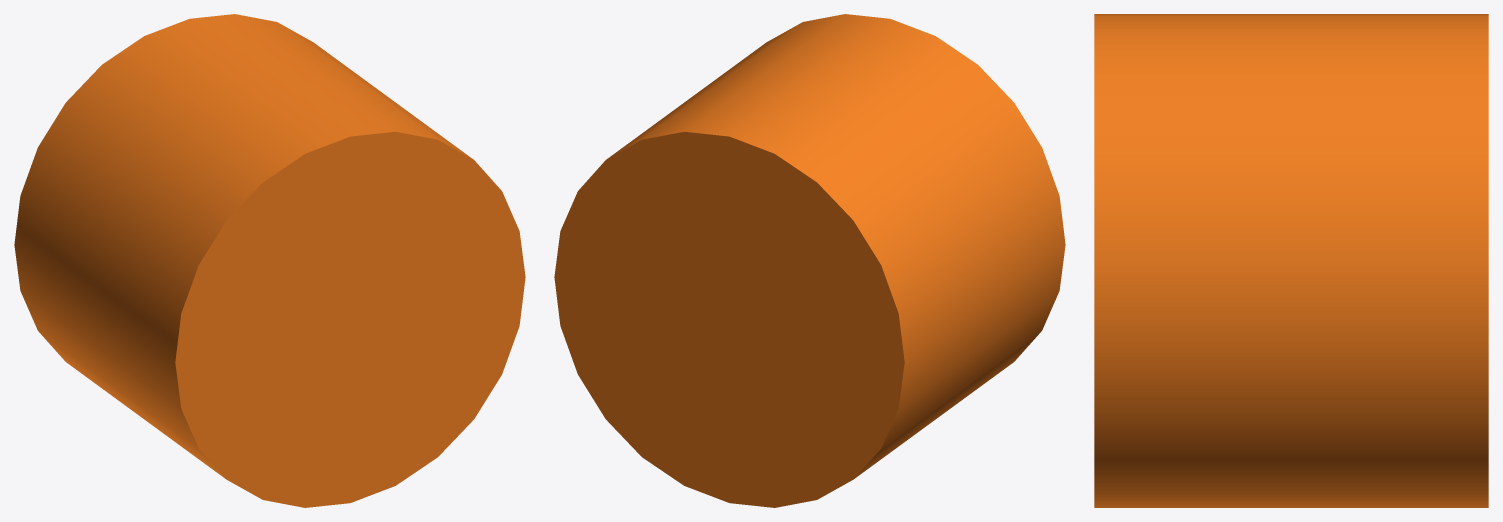
3 renders of one model, left to right at view 1: azimuth 30°, elevation 25°; view 2: azimuth 150°, elevation 25°; view 3: azimuth 270°, elevation 25°, orthographic. The views are drawn at different scales.
Visible parts, largest first — view 1: gripper_frame; view 2: gripper_frame; view 3: gripper_frame.
Part boxes in pixels (x1,y1,x2,y2): gripper_frame: (14, 14, 525, 507); gripper_frame: (554, 14, 1065, 507); gripper_frame: (1094, 14, 1488, 507).
Bounding box in the file's own units: 0.044 × 0.044 × 0.035.
